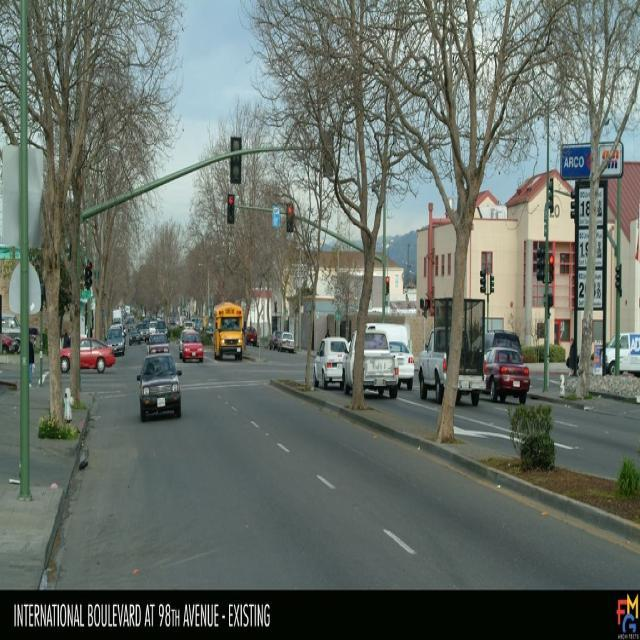traffic light: (286, 202, 295, 231), (228, 194, 236, 223)
